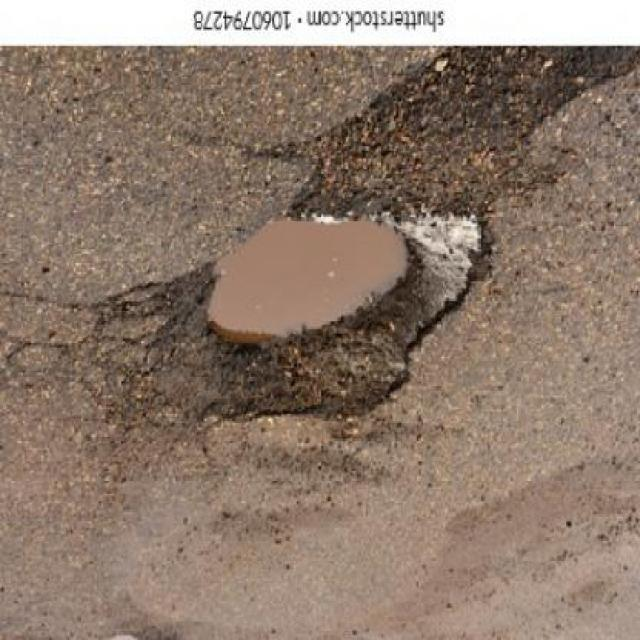pothole: (134, 142, 503, 466)
